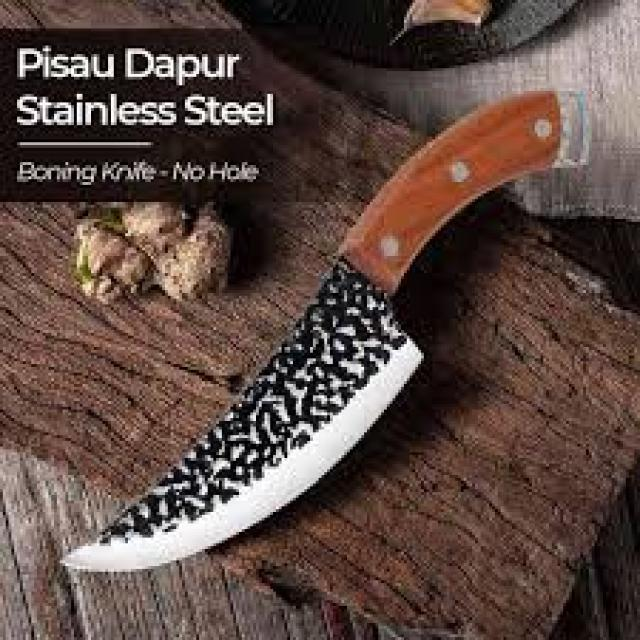Knife: (60, 91, 558, 569)
